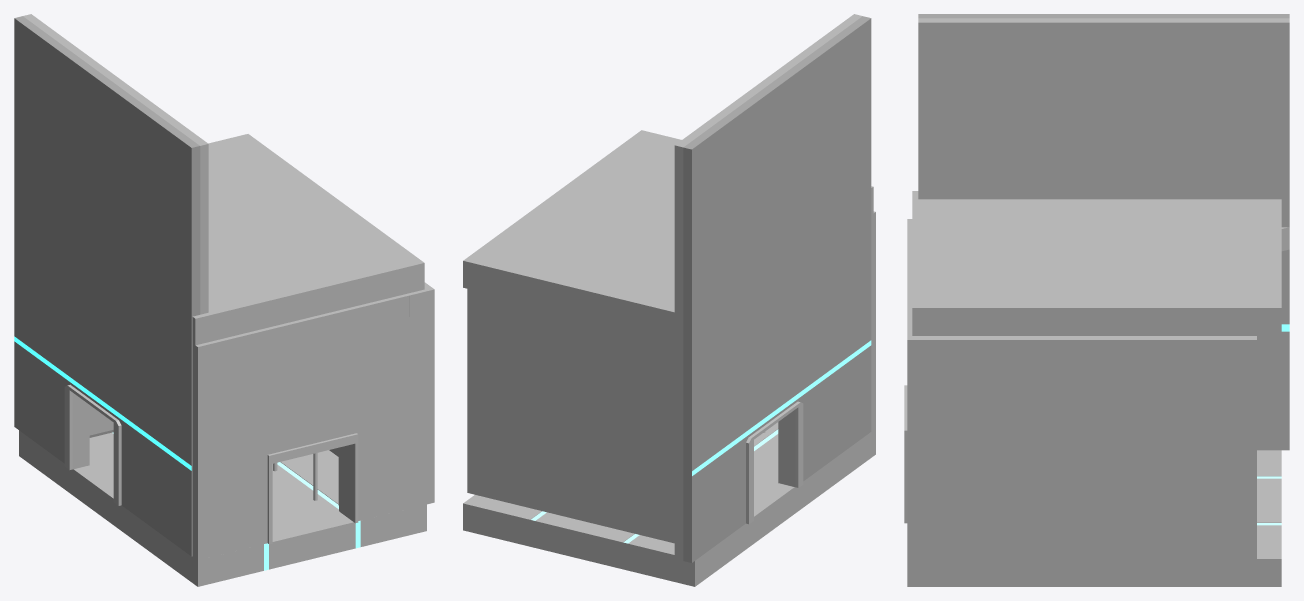
File: Safe Room.fbx
3 views of the same model, side by side, from view 1: azimuth 30°, elevation 25°; view 2: azimuth 150°, elevation 25°; view 3: azimuth 270°, elevation 25° (orthographic). The views are drawn at different scales.
Parts seen in each view (by area): view 1: Cube.002, Cube.012, Cube.006, Cube.005, Cube.003, Cube.001; view 2: Cube.002, Cube.001, Cube.006, Cube.005, Cube.003, Cube.012; view 3: Cube.003, Cube.002, Cube.006, Cube.005, Cube.012.
Boxes of the visible parts, x1,y1,x2,y2 form: Cube.002: [14, 14, 208, 556]; Cube.012: [192, 295, 409, 560]; Cube.006: [192, 134, 424, 345]; Cube.005: [19, 430, 426, 586]; Cube.003: [329, 282, 434, 508]; Cube.001: [89, 405, 113, 437]; Cube.002: [674, 14, 871, 562]; Cube.001: [493, 295, 674, 543]; Cube.006: [463, 130, 873, 339]; Cube.005: [463, 422, 875, 586]; Cube.003: [467, 289, 492, 498]; Cube.012: [871, 211, 875, 430]; Cube.003: [907, 325, 1256, 562]; Cube.002: [918, 14, 1289, 450]; Cube.006: [912, 191, 1281, 335]; Cube.005: [907, 450, 1281, 586]; Cube.012: [904, 219, 912, 523].
Bounding box in the file's own units: 945 × 1634 × 1253.
